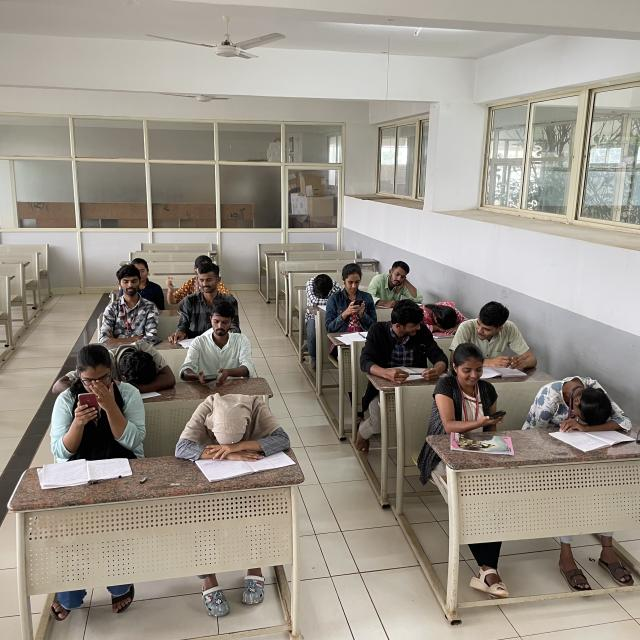Sleeping: (172, 385, 288, 460), (527, 370, 640, 428), (107, 338, 178, 395), (418, 297, 471, 338), (301, 274, 344, 310)
Using Phone: (47, 340, 141, 443), (434, 341, 508, 426), (179, 308, 252, 384), (328, 266, 378, 326)
Writing: (370, 259, 418, 310)
